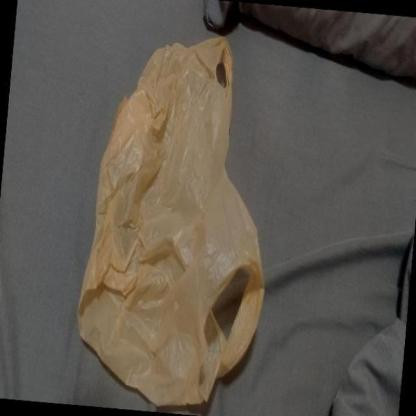Plastic Bag: (77, 27, 263, 407)
